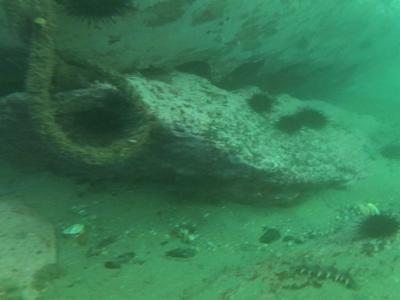holothurian: (297, 258, 360, 290)
urchin: (74, 108, 132, 146), (67, 3, 135, 24), (360, 214, 395, 238), (299, 107, 325, 130), (278, 114, 301, 133), (251, 95, 274, 112)
